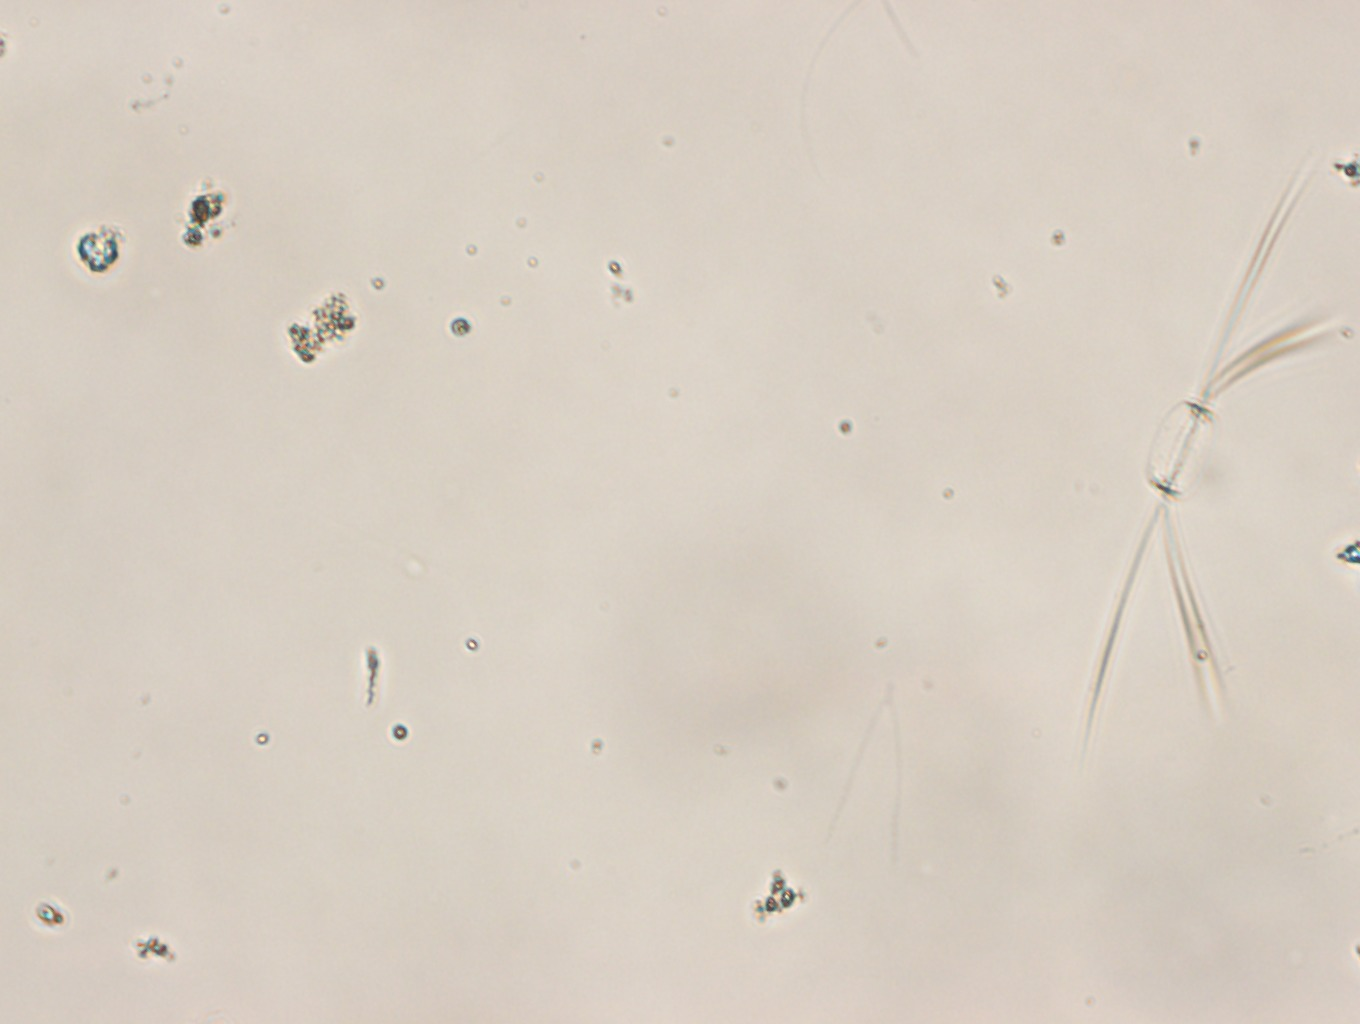chaetoceros: (1084, 166, 1360, 743)
